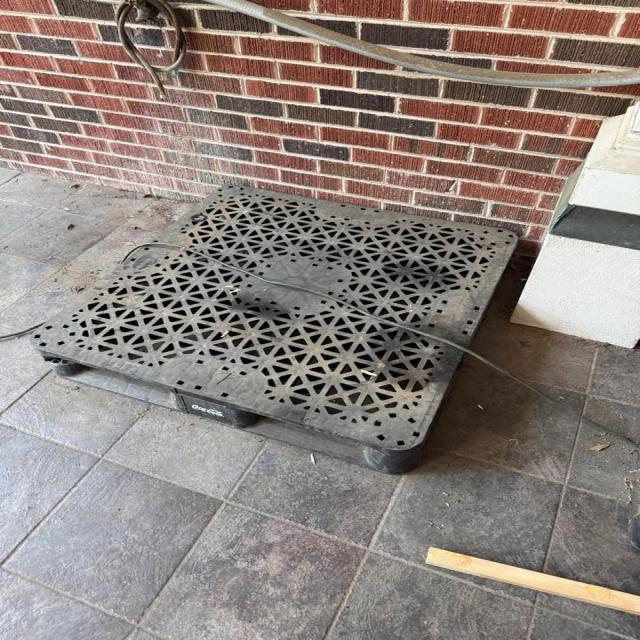non-igps: (28, 179, 526, 482)
